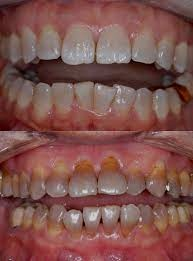Tooth Discoloration: (3, 156, 183, 188), (45, 216, 90, 239)
